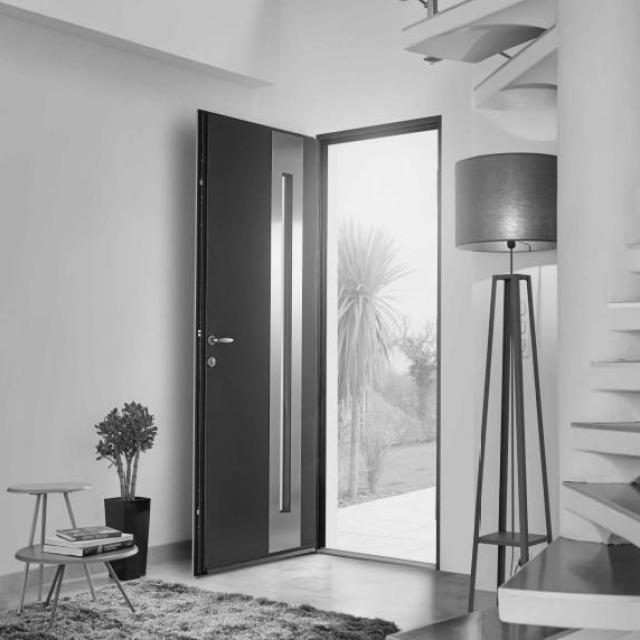door: (193, 107, 318, 575)
